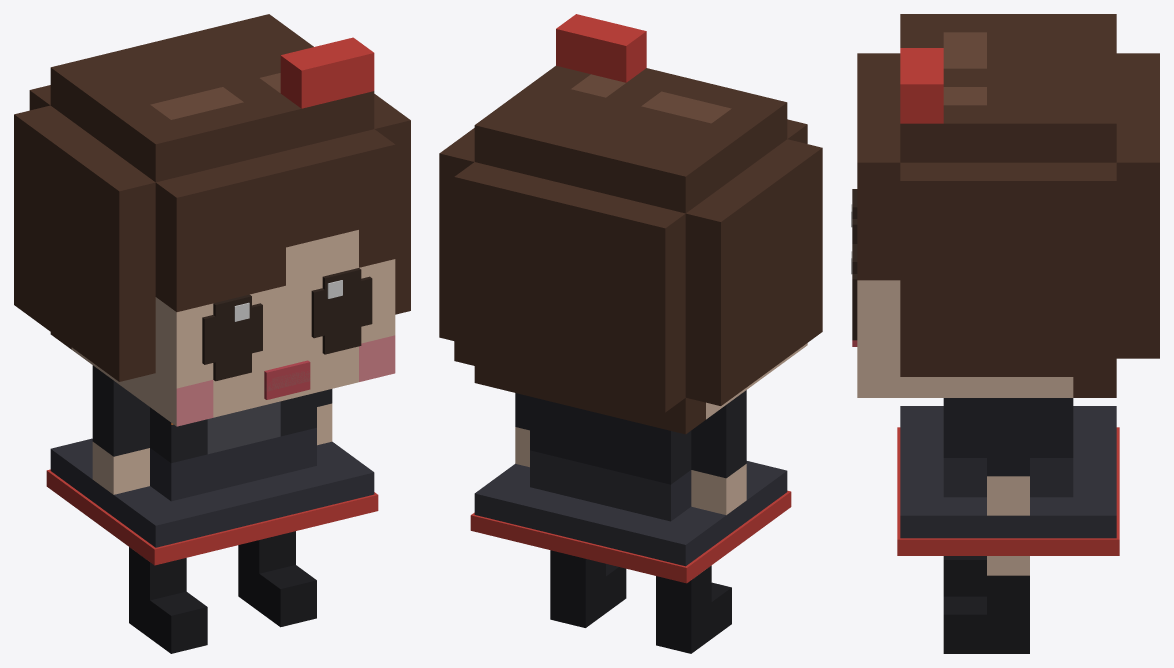
The model's file is doubao.glb.
3 renders of one model, left to right at view 1: azimuth 30°, elevation 25°; view 2: azimuth 150°, elevation 25°; view 3: azimuth 270°, elevation 25°, orthographic. The views are drawn at different scales.
Parts seen in each view (by area): view 1: head, body, armB, footB, face_happy, footA, face_open, face_tight, armA; view 2: head, body, armB, footB, footA, armA; view 3: head, body, footA, armA, footB, face_happy, face_open.
Boxes of the visible parts, box(x1,y1,x2,y2) form: head: box(14, 14, 410, 426); body: box(46, 392, 378, 565); armB: box(92, 365, 149, 494); footB: box(129, 547, 207, 653); face_happy: box(202, 276, 372, 399); footA: box(238, 531, 316, 627); face_open: box(213, 268, 361, 388); face_tight: box(203, 297, 371, 391); armA: box(317, 389, 332, 445); head: box(439, 14, 822, 434); body: box(470, 396, 791, 583); armB: box(691, 390, 746, 515); footB: box(656, 565, 731, 653); footA: box(550, 550, 626, 627); armA: box(515, 393, 529, 467); head: box(857, 14, 1159, 397); body: box(897, 398, 1119, 555); footA: box(943, 556, 1029, 653); armA: box(987, 398, 1029, 515); footB: box(943, 556, 986, 596); face_happy: box(852, 219, 857, 346); face_open: box(851, 189, 857, 340).
Size of the model in its own units: 0.56 by 1.05 by 0.4998.
